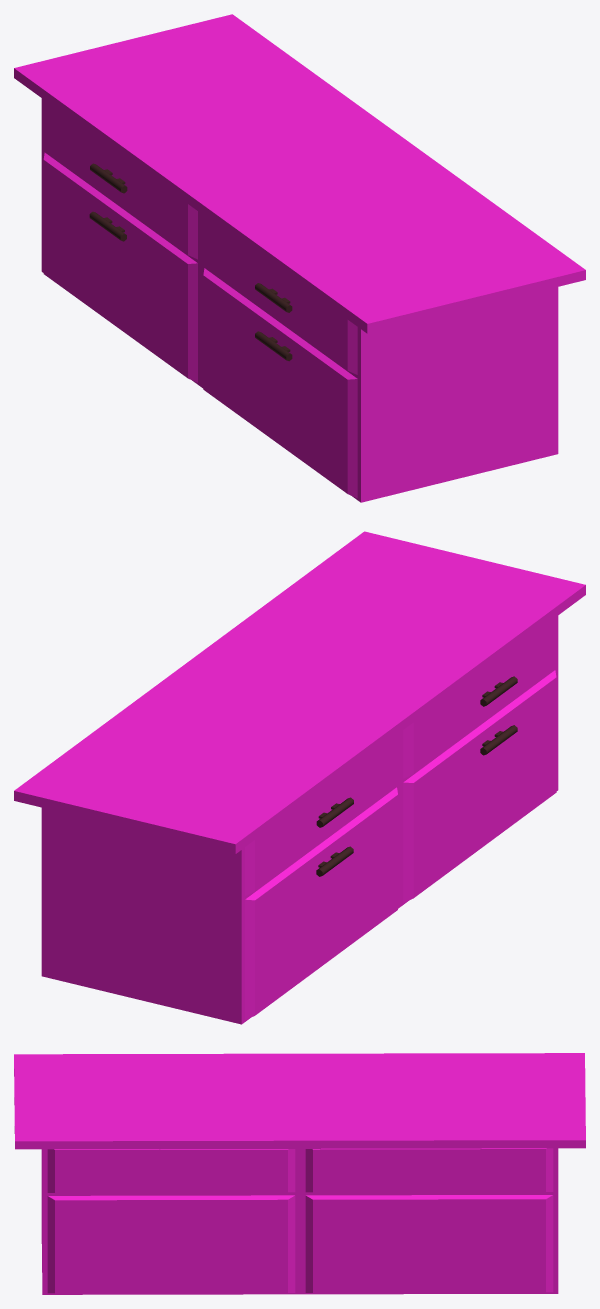
The model's file is Table 2_resized.FBX.
3 views of the same model, one above another, from view 1: azimuth 30°, elevation 25°; view 2: azimuth 150°, elevation 25°; view 3: azimuth 270°, elevation 25° (orthographic). The views are drawn at different scales.
Visible parts, largest first — view 1: table number 2; view 2: table number 2; view 3: table number 2.
Boxes of the visible parts, left/top/right/bottom form: table number 2: left=14, top=14, right=585, bottom=502; table number 2: left=14, top=531, right=585, bottom=1024; table number 2: left=14, top=1053, right=585, bottom=1294.
Bounding box in the file's own units: 1.2 × 0.9772 × 3.21.
